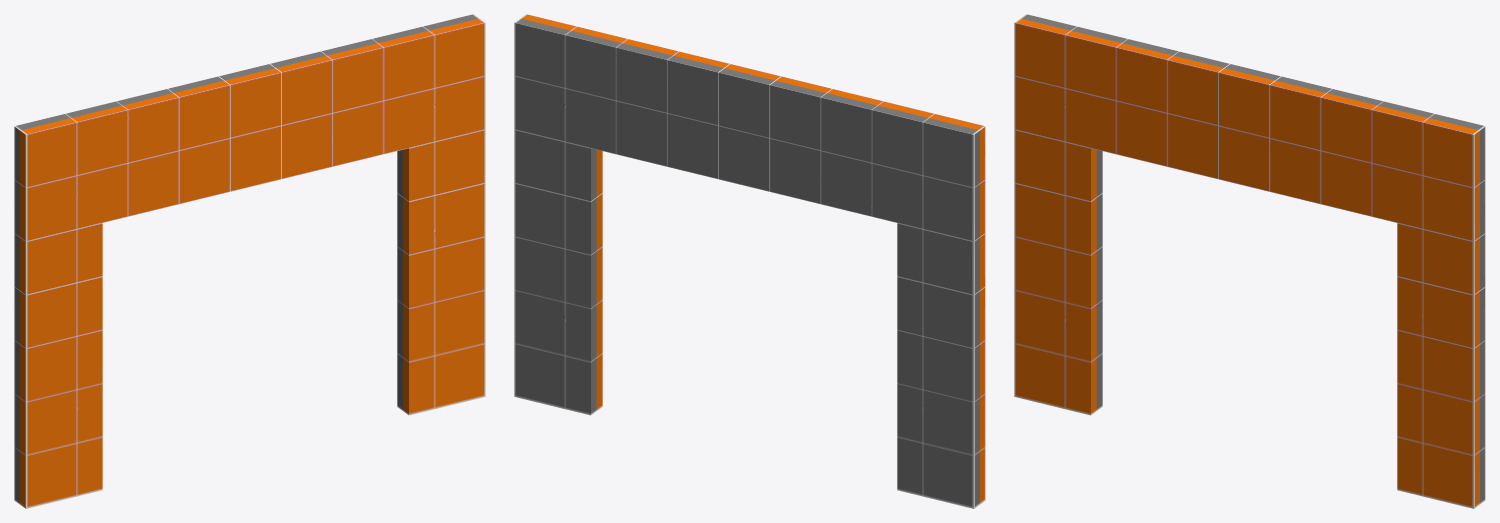
The model's file is M01WallDoorTypeB_1.FBX.
3 views of the same model, side by side, from view 1: azimuth 30°, elevation 25°; view 2: azimuth 150°, elevation 25°; view 3: azimuth 330°, elevation 25° (orthographic).
Visible parts, largest first — view 1: M01WallDoorTypeB_1; view 2: M01WallDoorTypeB_1; view 3: M01WallDoorTypeB_1.
Boxes of the visible parts, left/top/right/bottom form: M01WallDoorTypeB_1: left=14, top=14, right=485, bottom=508; M01WallDoorTypeB_1: left=514, top=14, right=985, bottom=508; M01WallDoorTypeB_1: left=1014, top=14, right=1485, bottom=508.
Size of what is drawn, in the model's own units: 4.5 by 3.5 by 0.2.
